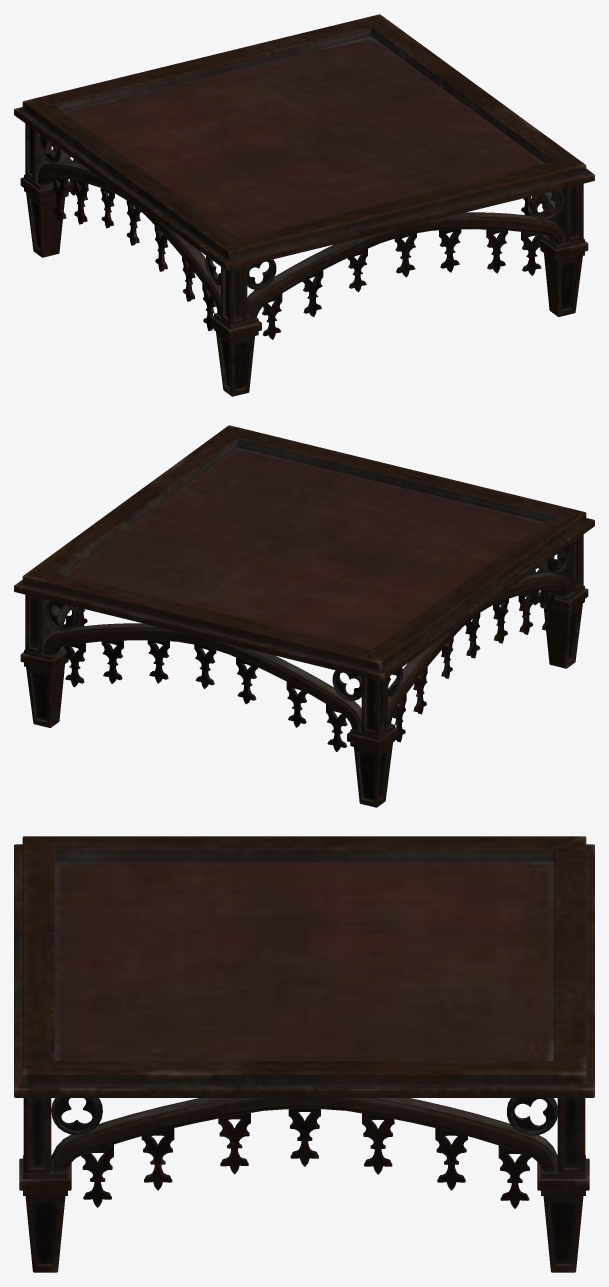
3 views of the same model, one above another, from view 1: azimuth 30°, elevation 25°; view 2: azimuth 150°, elevation 25°; view 3: azimuth 270°, elevation 25° (orthographic). The views are drawn at different scales.
Parts seen in each view (by area): view 1: gothic_coffee_table; view 2: gothic_coffee_table; view 3: gothic_coffee_table.
Boxes of the visible parts, bbox=[...] form: gothic_coffee_table: bbox=[14, 14, 594, 396]; gothic_coffee_table: bbox=[14, 425, 594, 807]; gothic_coffee_table: bbox=[14, 836, 594, 1272].
Bounding box in the file's own units: 1.44 × 0.5588 × 1.44.
Materials: 1 (1 with a texture image).
